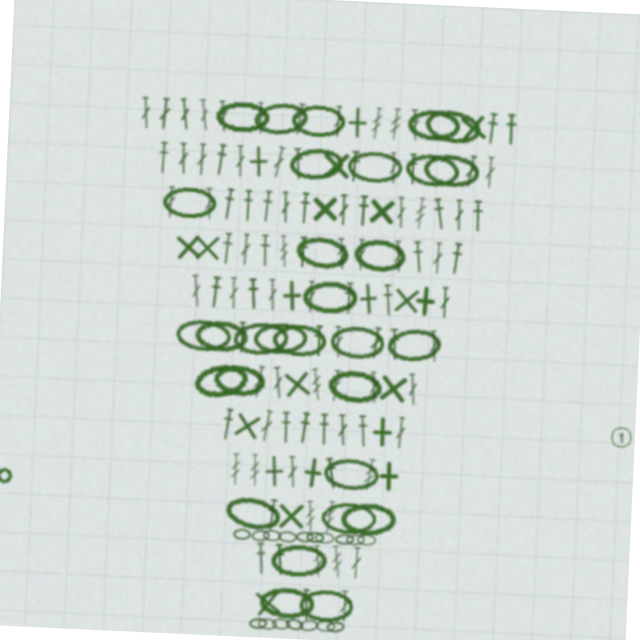chain: (194, 364, 253, 406), (232, 496, 291, 537), (414, 101, 473, 140), (243, 102, 301, 140), (291, 234, 348, 272), (387, 322, 444, 359), (281, 146, 338, 183), (233, 323, 291, 359), (415, 147, 473, 182), (397, 147, 453, 183), (253, 323, 309, 358), (281, 544, 338, 578), (215, 367, 270, 402), (330, 367, 385, 402), (330, 456, 386, 490), (176, 324, 232, 358), (350, 235, 404, 270), (195, 324, 250, 358), (349, 500, 405, 533), (272, 588, 327, 621), (301, 280, 356, 313), (331, 324, 385, 357), (398, 104, 452, 137), (330, 501, 385, 533), (157, 193, 212, 225), (340, 149, 395, 181), (282, 105, 337, 137), (312, 589, 366, 621), (273, 325, 327, 357), (206, 105, 260, 137), (313, 619, 333, 632), (299, 619, 318, 632), (272, 620, 291, 632), (340, 620, 359, 632), (261, 532, 280, 544), (288, 532, 307, 544), (345, 532, 364, 544), (356, 532, 375, 544), (263, 620, 281, 632), (330, 620, 349, 631), (325, 532, 344, 543), (367, 532, 386, 543), (286, 620, 304, 631), (243, 532, 261, 543), (273, 532, 291, 543), (306, 532, 324, 543), (316, 532, 334, 543)
double: (264, 412, 279, 445), (264, 148, 279, 181), (168, 104, 183, 137), (255, 368, 269, 401), (274, 368, 288, 401), (370, 324, 384, 357), (188, 280, 202, 313), (457, 148, 471, 181), (188, 104, 202, 137), (207, 105, 221, 137), (293, 457, 306, 489), (341, 413, 354, 445), (332, 369, 345, 401), (389, 237, 402, 269), (130, 105, 143, 137), (149, 105, 162, 137), (371, 369, 383, 401), (410, 369, 422, 401), (333, 325, 345, 357), (429, 325, 441, 357), (429, 237, 441, 269), (198, 193, 210, 225), (170, 149, 182, 181), (477, 149, 489, 181), (400, 105, 412, 137), (352, 589, 363, 621), (362, 545, 373, 577), (400, 413, 411, 445), (227, 281, 238, 313), (266, 281, 277, 313), (237, 237, 248, 269), (160, 193, 171, 225), (275, 193, 286, 225), (333, 193, 344, 225), (189, 149, 200, 181), (381, 149, 392, 181), (246, 105, 257, 137), (305, 281, 315, 313), (439, 281, 449, 313), (353, 237, 363, 269), (391, 193, 401, 225), (449, 193, 459, 225), (228, 149, 238, 181), (324, 105, 334, 137)
half_double: (330, 456, 347, 489), (426, 192, 443, 225), (225, 412, 240, 445), (302, 412, 317, 445), (408, 236, 423, 269), (446, 236, 461, 269), (216, 192, 231, 225), (206, 148, 221, 181), (265, 545, 279, 577), (284, 545, 298, 577), (274, 501, 288, 533), (361, 413, 375, 445), (207, 281, 221, 313), (245, 281, 259, 313), (380, 281, 394, 313), (217, 237, 231, 269), (255, 193, 269, 225), (284, 149, 298, 181), (476, 105, 490, 137), (313, 589, 326, 621), (389, 325, 402, 357), (293, 193, 306, 225), (341, 149, 354, 181), (285, 413, 297, 445), (323, 413, 335, 445), (237, 325, 249, 357), (314, 325, 326, 357), (342, 281, 354, 313), (256, 237, 268, 269), (294, 237, 306, 269), (237, 193, 249, 225), (352, 193, 364, 225), (467, 193, 479, 225), (150, 149, 162, 181), (400, 149, 412, 181), (496, 105, 508, 137)
noise: (614, 411, 639, 436), (2, 480, 21, 499)
single: (263, 587, 299, 623), (234, 411, 270, 447), (282, 367, 318, 403), (446, 103, 482, 139), (350, 279, 385, 314), (264, 456, 298, 490), (303, 456, 337, 490), (379, 368, 413, 402), (274, 280, 308, 314), (168, 236, 202, 270), (389, 280, 422, 313), (408, 280, 441, 313), (303, 192, 336, 225), (360, 192, 393, 225), (235, 148, 268, 181), (284, 501, 316, 533), (380, 457, 412, 489), (371, 413, 403, 445), (188, 237, 220, 269), (313, 149, 345, 181), (332, 105, 364, 137)
treble: (331, 500, 346, 533), (369, 456, 384, 489), (312, 368, 327, 401), (283, 104, 298, 137), (341, 544, 355, 577), (322, 545, 336, 577), (313, 501, 326, 533), (332, 237, 345, 269), (409, 193, 422, 225), (361, 105, 374, 137), (380, 105, 393, 137), (256, 457, 268, 489), (275, 237, 287, 269), (237, 457, 248, 489)
